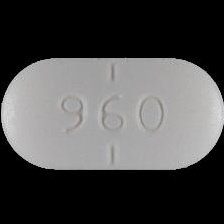50090-0734: (0, 0, 224, 224)
